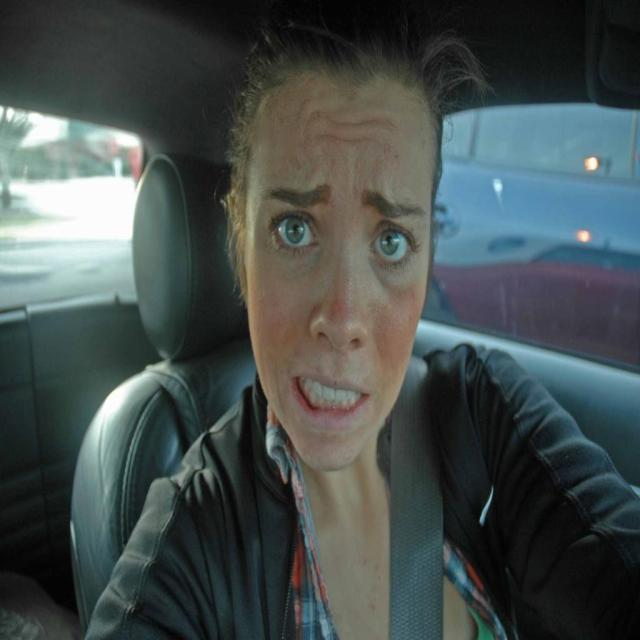Face: (239, 56, 436, 459)
